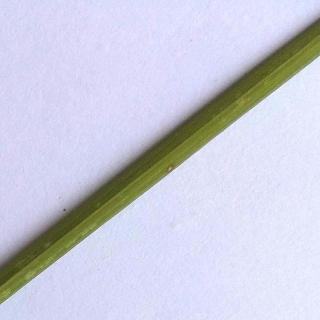Blast: (154, 150, 186, 184)
